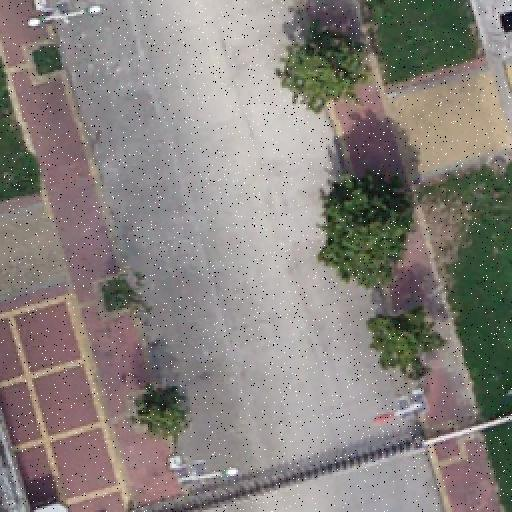solar-panel: (0, 508, 8, 512)
